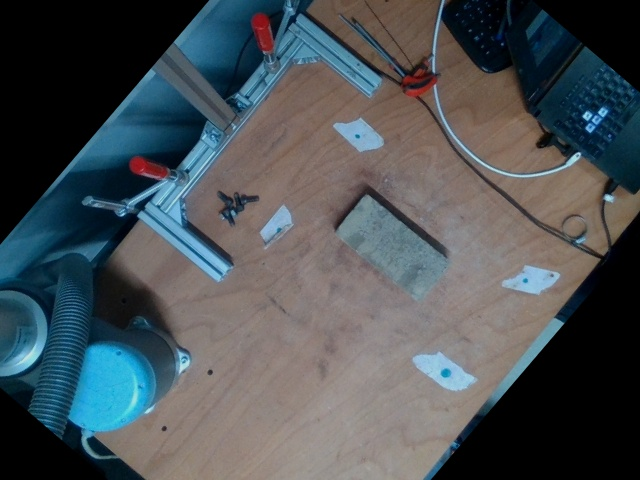brick: (338, 195, 448, 298)
